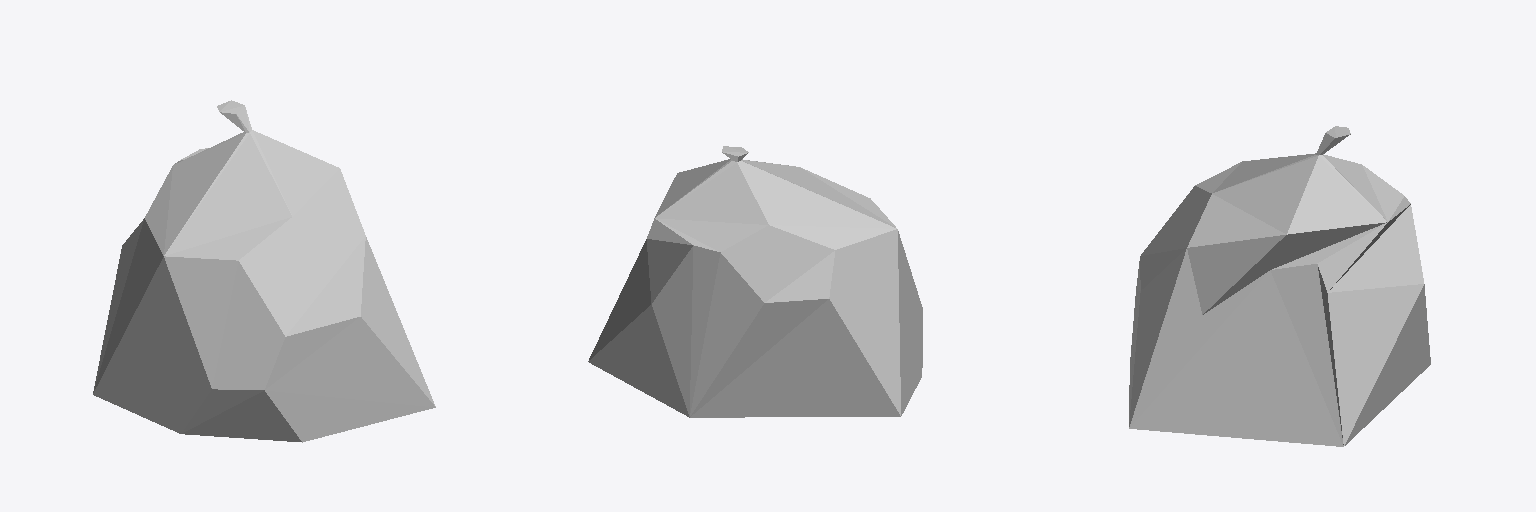
The model's file is trash_bag1.obj.
3 views of the same model, side by side, from view 1: azimuth 30°, elevation 25°; view 2: azimuth 150°, elevation 25°; view 3: azimuth 270°, elevation 25° (orthographic).
Parts seen in each view (by area): view 1: Icosphere.006; view 2: Icosphere.006; view 3: Icosphere.006.
Part boxes in pixels (left/top/right/bottom): Icosphere.006: left=93, top=100, right=435, bottom=442; Icosphere.006: left=588, top=146, right=922, bottom=417; Icosphere.006: left=1129, top=126, right=1430, bottom=446.
Bounding box in the file's own units: 0.6003 × 0.4919 × 0.5297.